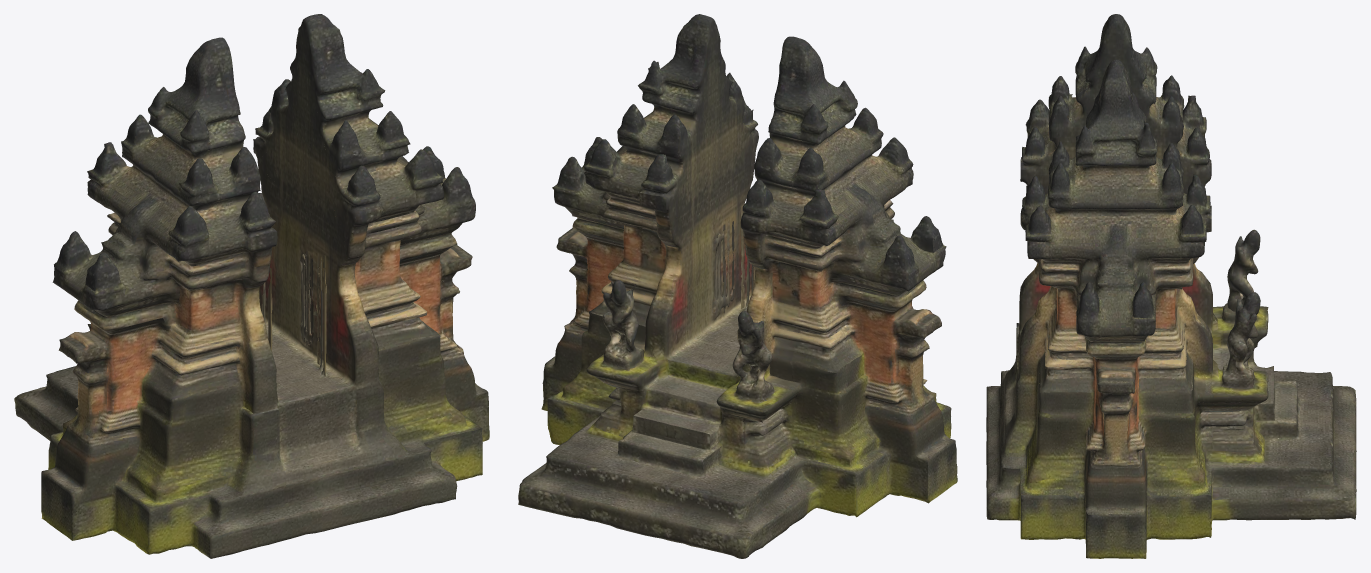
The model's file is candi-bentar.glb.
3 views of the same model, side by side, from view 1: azimuth 30°, elevation 25°; view 2: azimuth 150°, elevation 25°; view 3: azimuth 270°, elevation 25° (orthographic). The views are drawn at different scales.
Parts seen in each view (by area): view 1: GATE_0; view 2: GATE_0; view 3: GATE_0.
Boxes of the visible parts, x1=… form: GATE_0: x1=14, y1=14, x2=489, y2=558; GATE_0: x1=518, y1=14, x2=957, y2=558; GATE_0: x1=986, y1=14, x2=1356, y2=558.
Size of the model in its own units: 1.81 by 1.88 by 1.48.
1 material, 1 textured.
